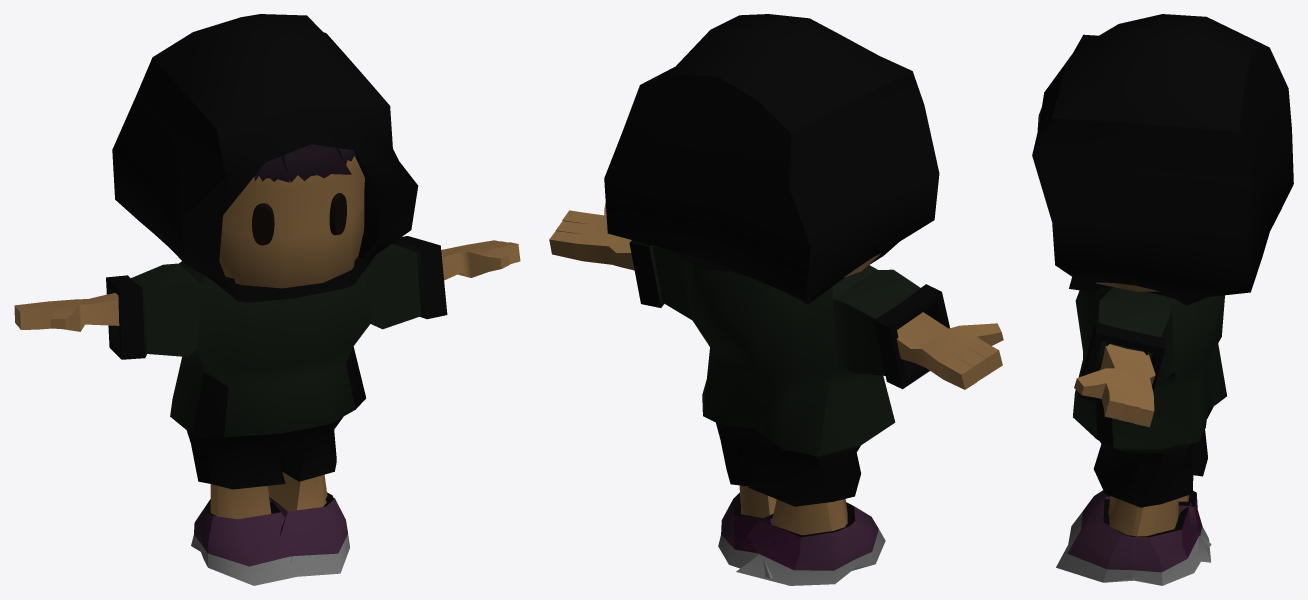
Rendered from main_char_new.fbx.
3 views of the same model, side by side, from view 1: azimuth 30°, elevation 25°; view 2: azimuth 150°, elevation 25°; view 3: azimuth 270°, elevation 25° (orthographic). The views are drawn at different scales.
Parts seen in each view (by area): view 1: hoodie, sweater (×2), body, shoes1 (×2), short, pCube3, bevelPolygon1; view 2: hoodie, sweater (×2), body, shoes1 (×4), short; view 3: hoodie, sweater (×2), shoes1 (×4), body, short.
Boxes of the visible parts, box(x1,y1,x2,y2) form: hoodie: box(112, 14, 418, 302); sweater (×2): box(106, 236, 447, 437); body: box(14, 156, 520, 519); shoes1 (×2): box(191, 496, 349, 585); short: box(187, 416, 343, 489); pCube3: box(281, 144, 351, 182); bevelPolygon1: box(252, 203, 274, 245); hoodie: box(604, 14, 939, 304); sweater (×2): box(629, 240, 949, 457); body: box(549, 203, 1003, 535); shoes1 (×4): box(718, 492, 885, 585); short: box(716, 422, 861, 506); hoodie: box(1032, 14, 1293, 305); sweater (×2): box(1073, 287, 1226, 453); shoes1 (×4): box(1056, 490, 1211, 585); body: box(1074, 282, 1189, 536); short: box(1093, 406, 1213, 507).
Bounding box in the file's own units: 6.41 × 6.9 × 3.08.
